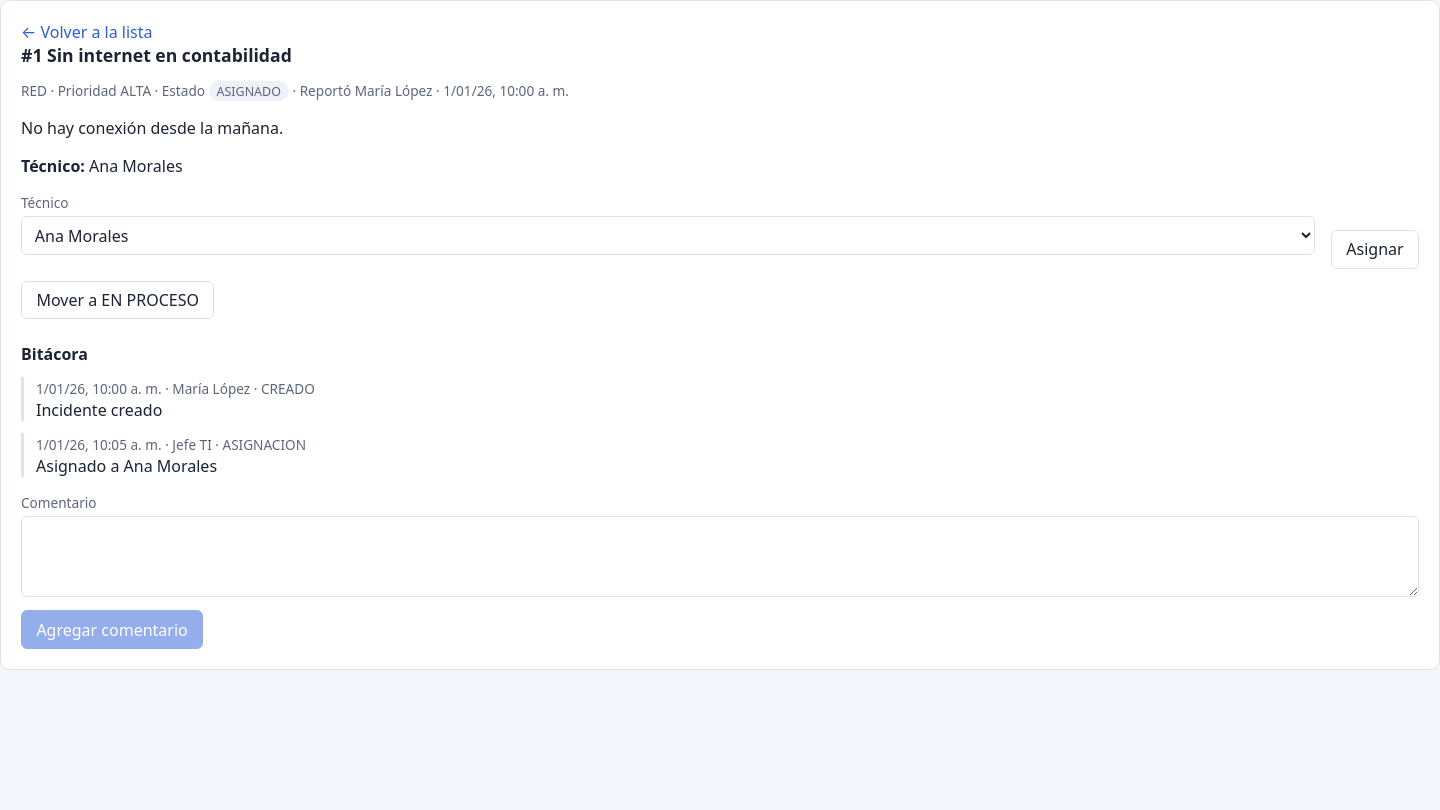
Scenario: IncidentDetail › muestra el error de negocio devuelto por la API
Click the button "Mover a EN PROCESO" at [118, 300], box [21,281,214,319]
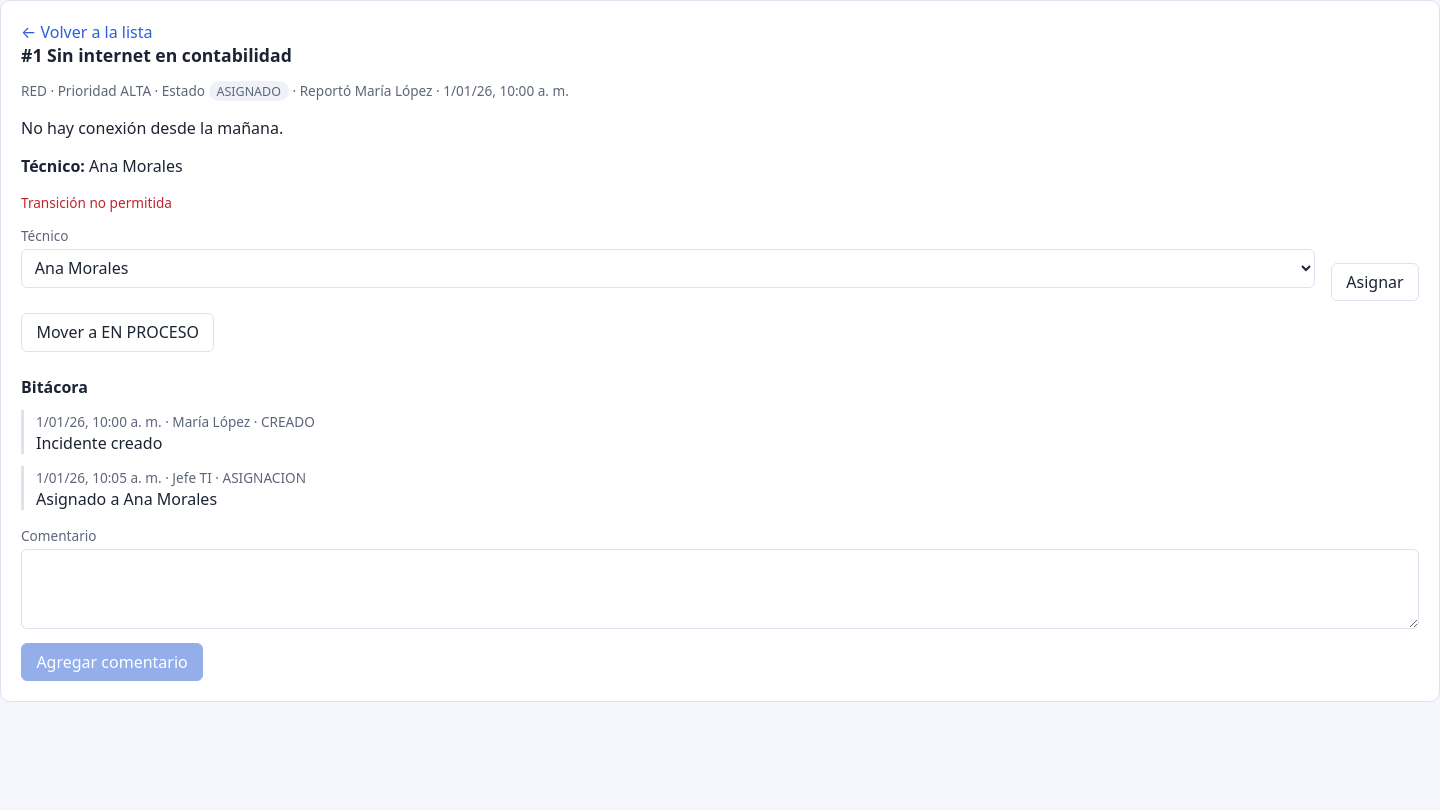
expect the message reads "Transición no permitida": met, box [21,193,172,212]
